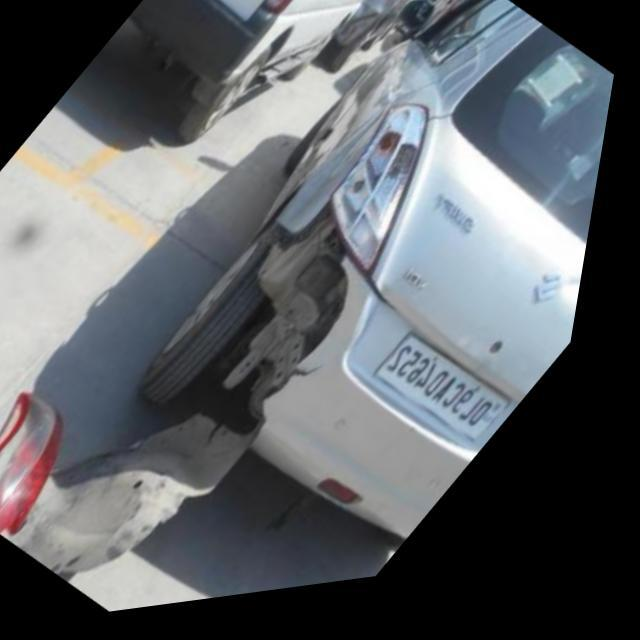dent: (571, 298, 593, 333)
lamp broken: (332, 119, 433, 286)
no part: (237, 212, 403, 447)
